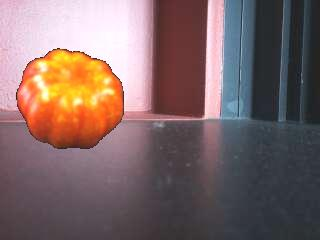Pumpkin: (16, 48, 125, 150)
